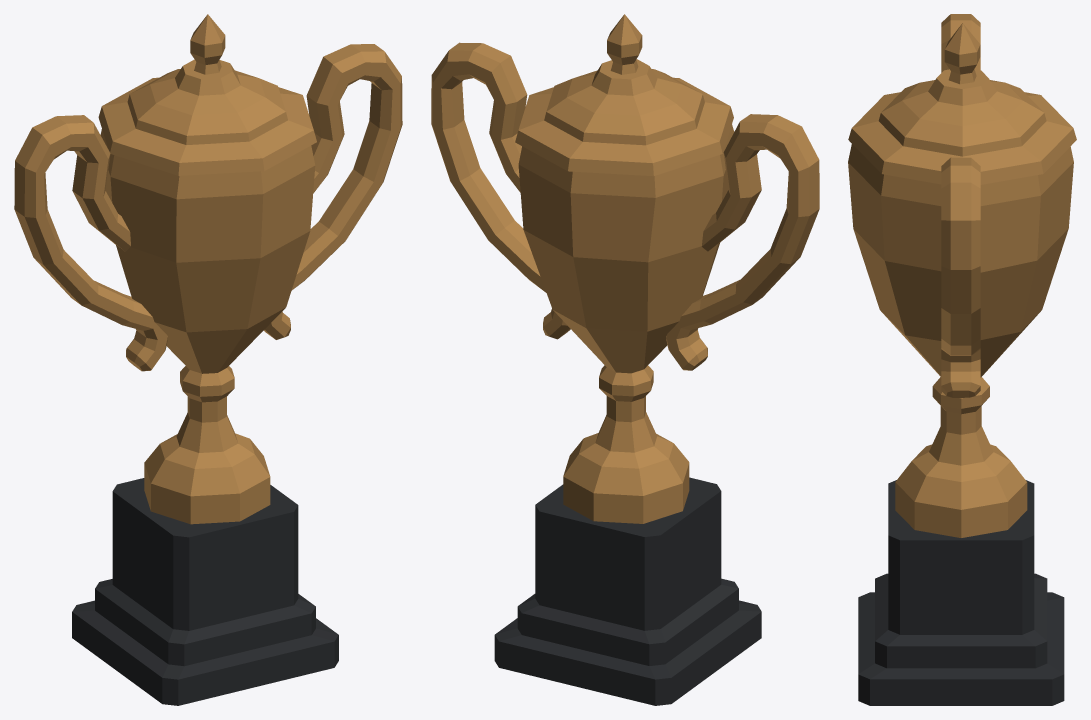
Rendered from trophy.glb.
3 views of the same model, side by side, from view 1: azimuth 30°, elevation 25°; view 2: azimuth 150°, elevation 25°; view 3: azimuth 270°, elevation 25° (orthographic).
Visible parts, largest first — view 1: SM_Prop_Trophy_01, SM_Prop_Trophy_01_Lid_01; view 2: SM_Prop_Trophy_01, SM_Prop_Trophy_01_Lid_01; view 3: SM_Prop_Trophy_01, SM_Prop_Trophy_01_Lid_01.
Boxes of the visible parts, x1=… form: SM_Prop_Trophy_01: x1=14, y1=44, x2=402, y2=705; SM_Prop_Trophy_01_Lid_01: x1=98, y1=14, x2=316, y2=175; SM_Prop_Trophy_01: x1=431, y1=42, x2=819, y2=705; SM_Prop_Trophy_01_Lid_01: x1=515, y1=14, x2=733, y2=176; SM_Prop_Trophy_01: x1=848, y1=14, x2=1073, y2=705; SM_Prop_Trophy_01_Lid_01: x1=848, y1=23, x2=1076, y2=184.
Size of the model in its own units: 0.5245 by 0.8414 by 0.2724.
Materials: 1 (1 with a texture image).
